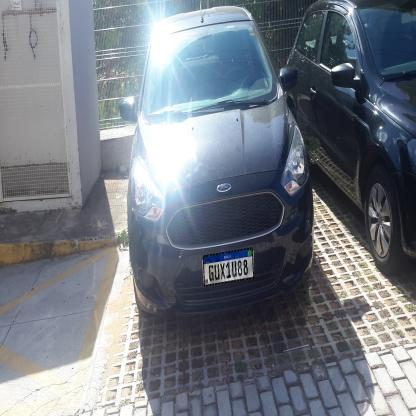PlacaM: (203, 247, 254, 287)
